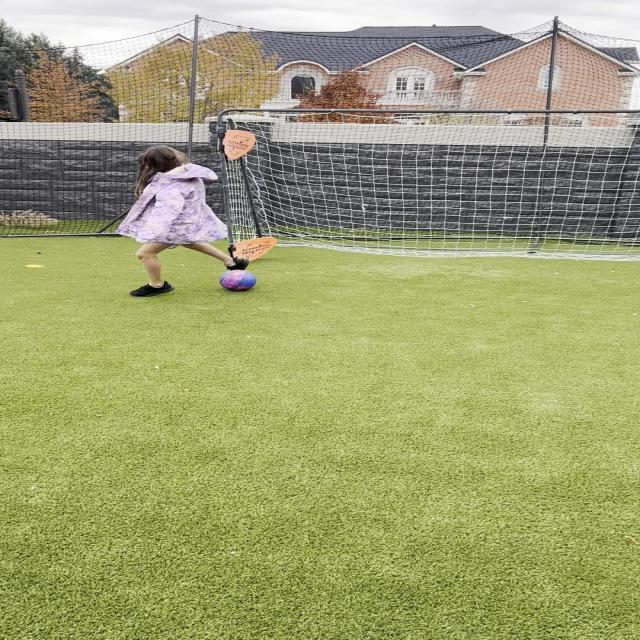Soccer Ball: (219, 270, 257, 291)
